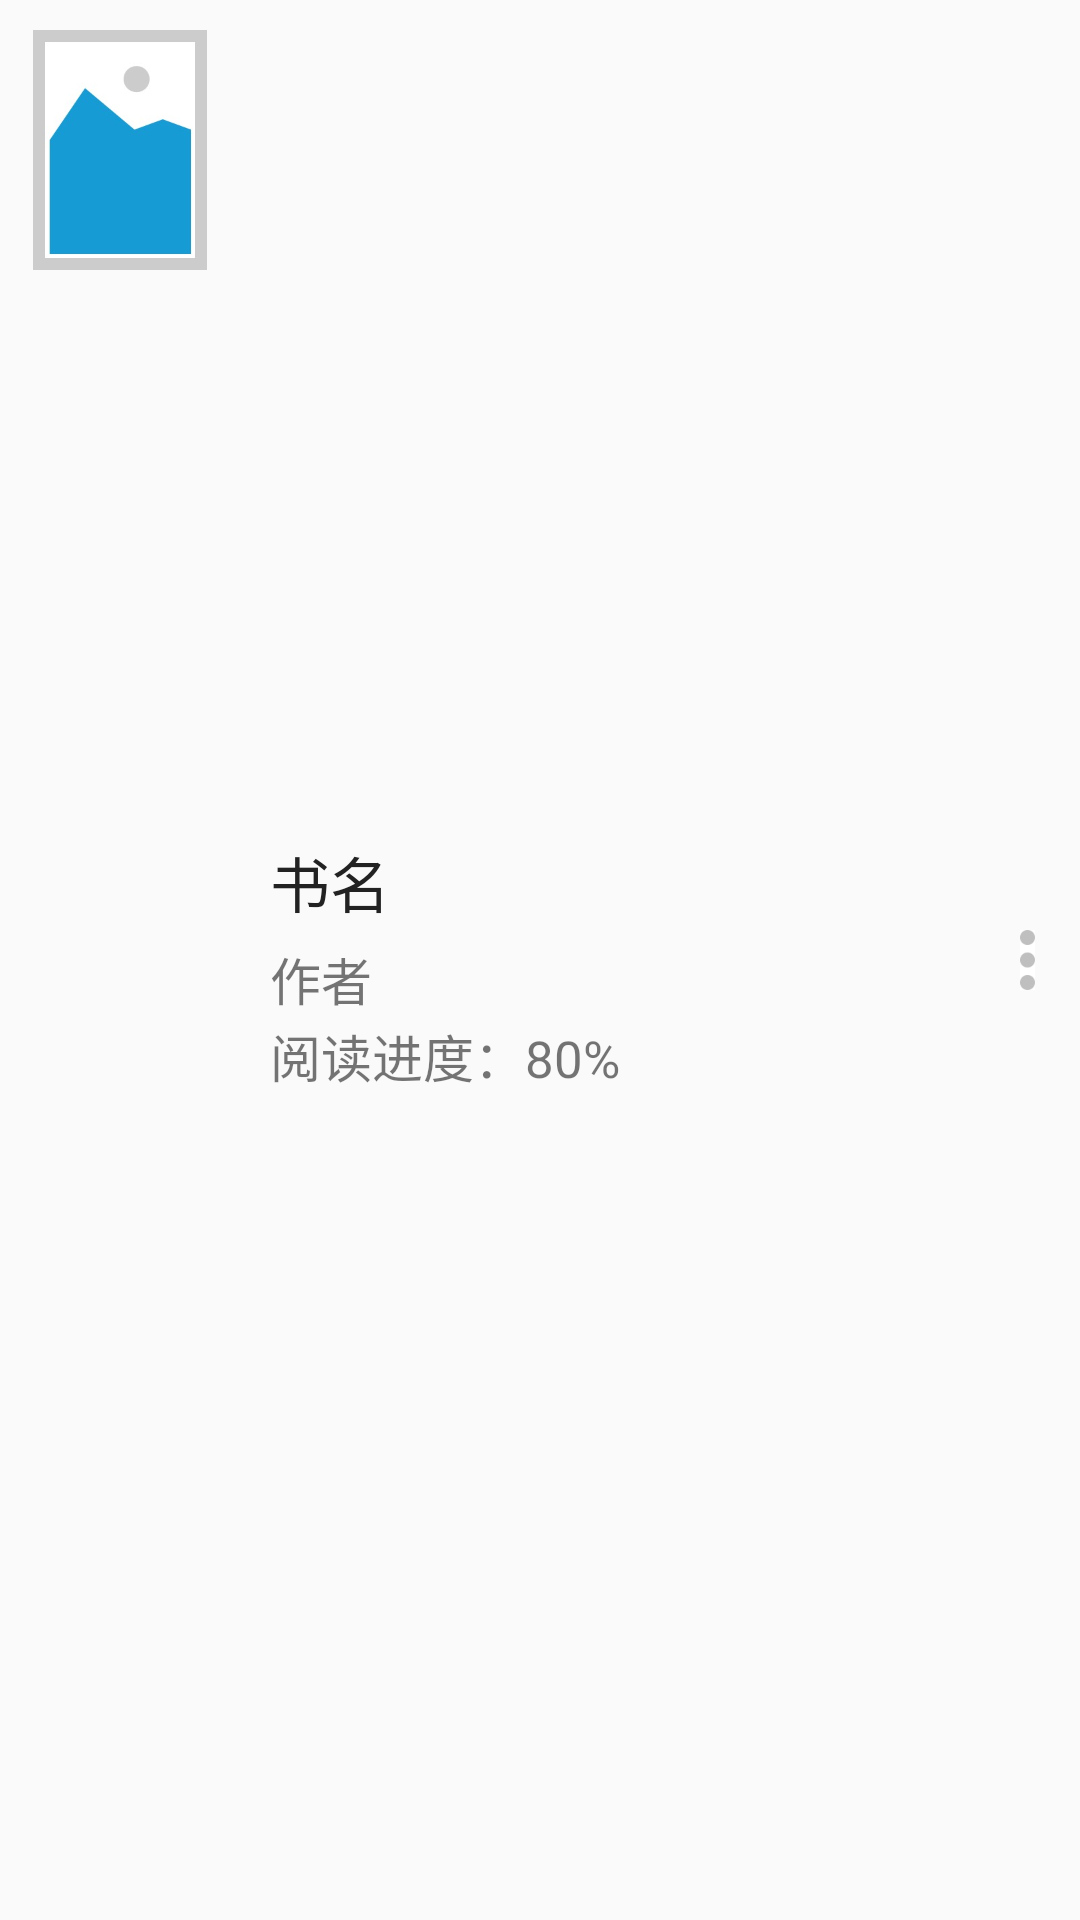

Locate icon controls on the screen. Image size 1080px x 1920px, boxes as (x1, y1, x2, y2).
item dot: (1020, 930, 1035, 990)
